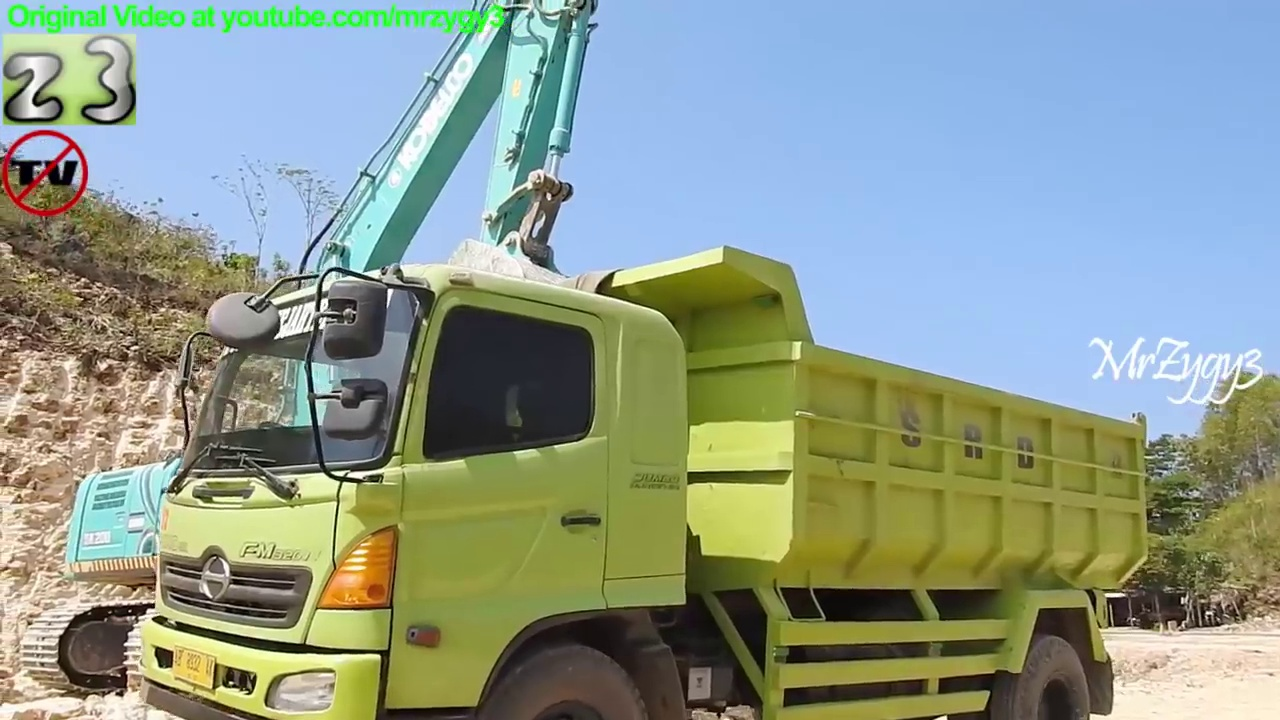excavator: (20, 2, 612, 705)
truck: (137, 237, 1149, 720)
